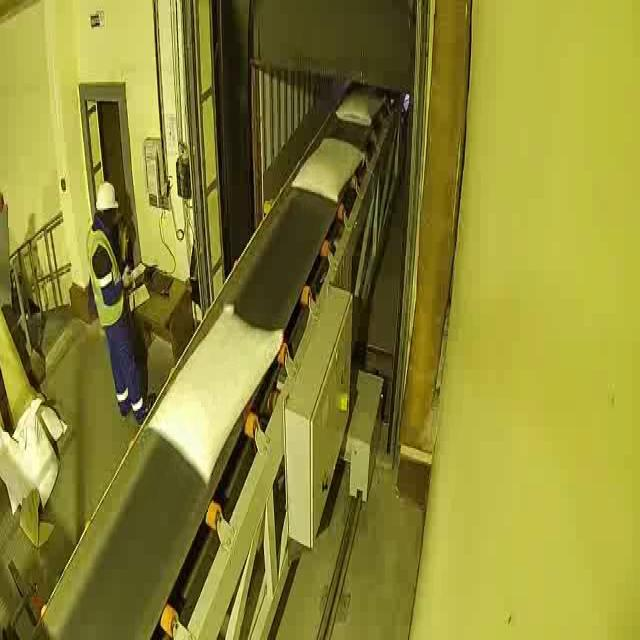bag: (151, 304, 283, 485), (292, 137, 366, 202), (336, 88, 391, 124)
